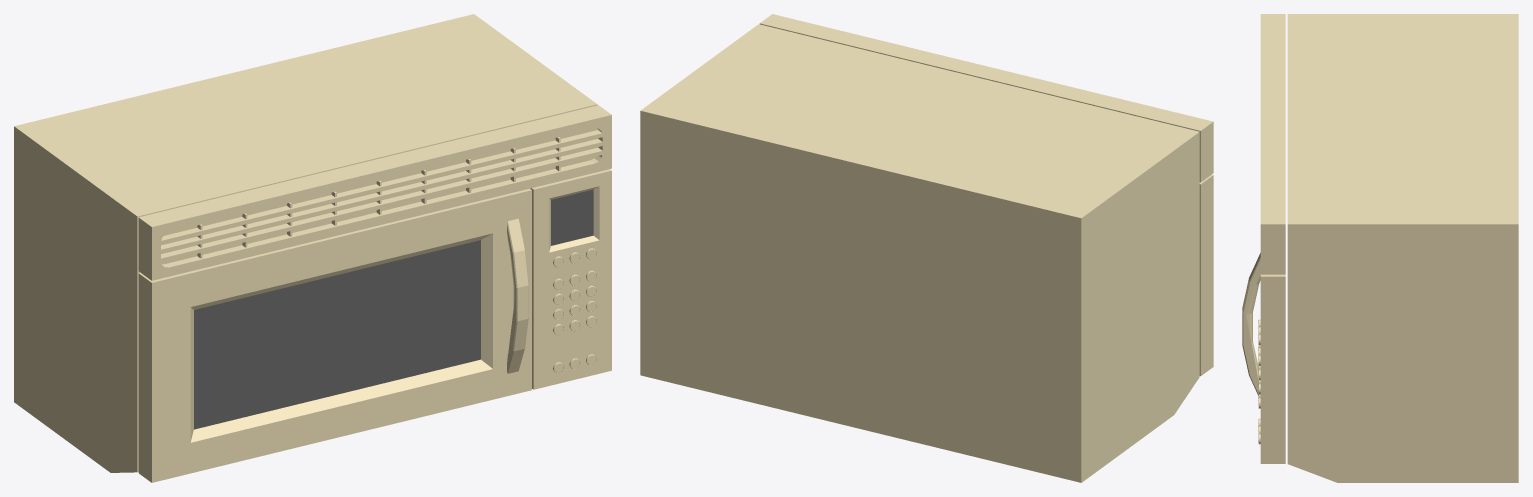
Rendered from demo3.glb.
3 renders of one model, left to right at view 1: azimuth 30°, elevation 25°; view 2: azimuth 150°, elevation 25°; view 3: azimuth 270°, elevation 25°, orthographic. The views are drawn at different scales.
Visible parts, largest first — view 1: Asset3DLoader.sceneRoot; view 2: Asset3DLoader.sceneRoot; view 3: Asset3DLoader.sceneRoot.
Part boxes in pixels (box(x1,y1,x2,y2)): Asset3DLoader.sceneRoot: box(14, 14, 611, 482); Asset3DLoader.sceneRoot: box(640, 14, 1213, 482); Asset3DLoader.sceneRoot: box(1242, 14, 1518, 482).
Bounding box in the file's own units: 29.88 × 17.12 × 16.6.
